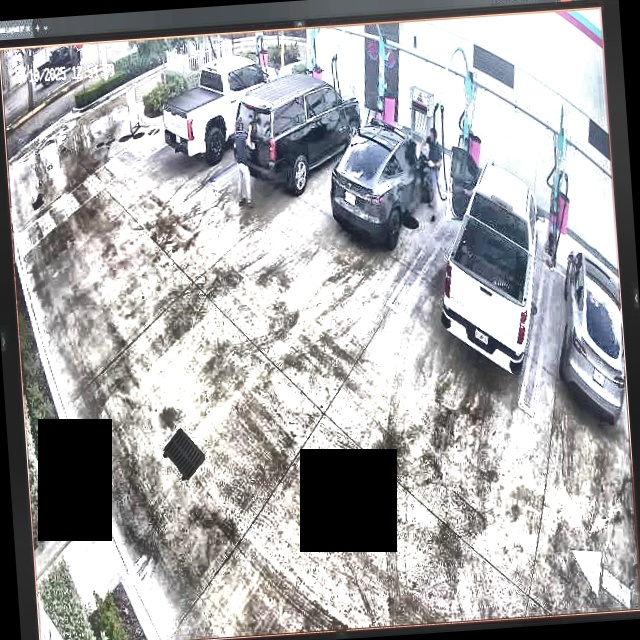Car: (430, 139, 546, 376), (230, 61, 364, 194), (330, 111, 439, 257), (157, 50, 289, 169)
